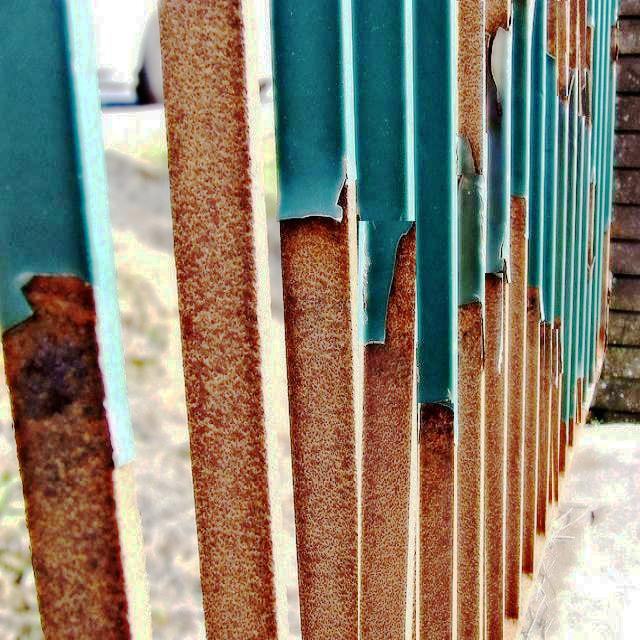Corrosion: (159, 0, 280, 640), (2, 276, 151, 640), (281, 185, 362, 640), (361, 227, 419, 640), (506, 237, 543, 620), (458, 302, 485, 640), (524, 287, 555, 574), (420, 404, 457, 640), (485, 273, 508, 562), (507, 195, 529, 482), (459, 0, 487, 174), (459, 571, 486, 640), (559, 0, 572, 96), (571, 0, 588, 68), (486, 0, 512, 44), (486, 511, 492, 640), (548, 0, 559, 60)
